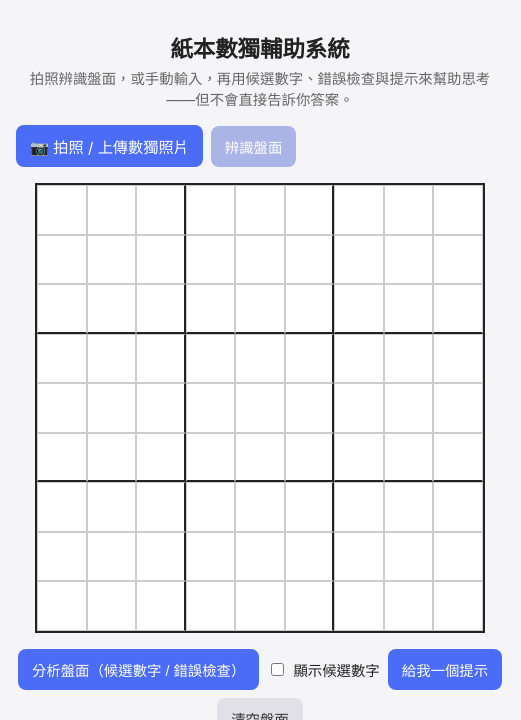
Scenario: App › shows a generic error message for non-API errors
Click the button "分析盤面（候選數字 / 錯誤檢查）": (139, 670) [18, 649, 259, 690]
(page scrolled)
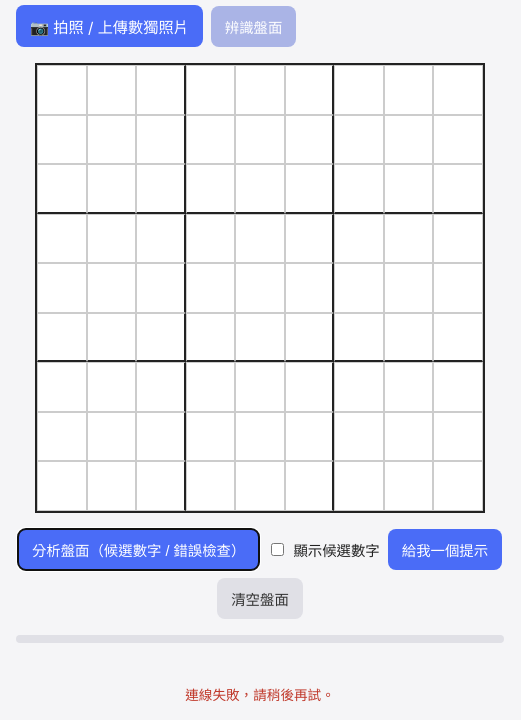
Expected: the text "連線失敗，請稍後再試。" is shown, [185, 687, 335, 703]
